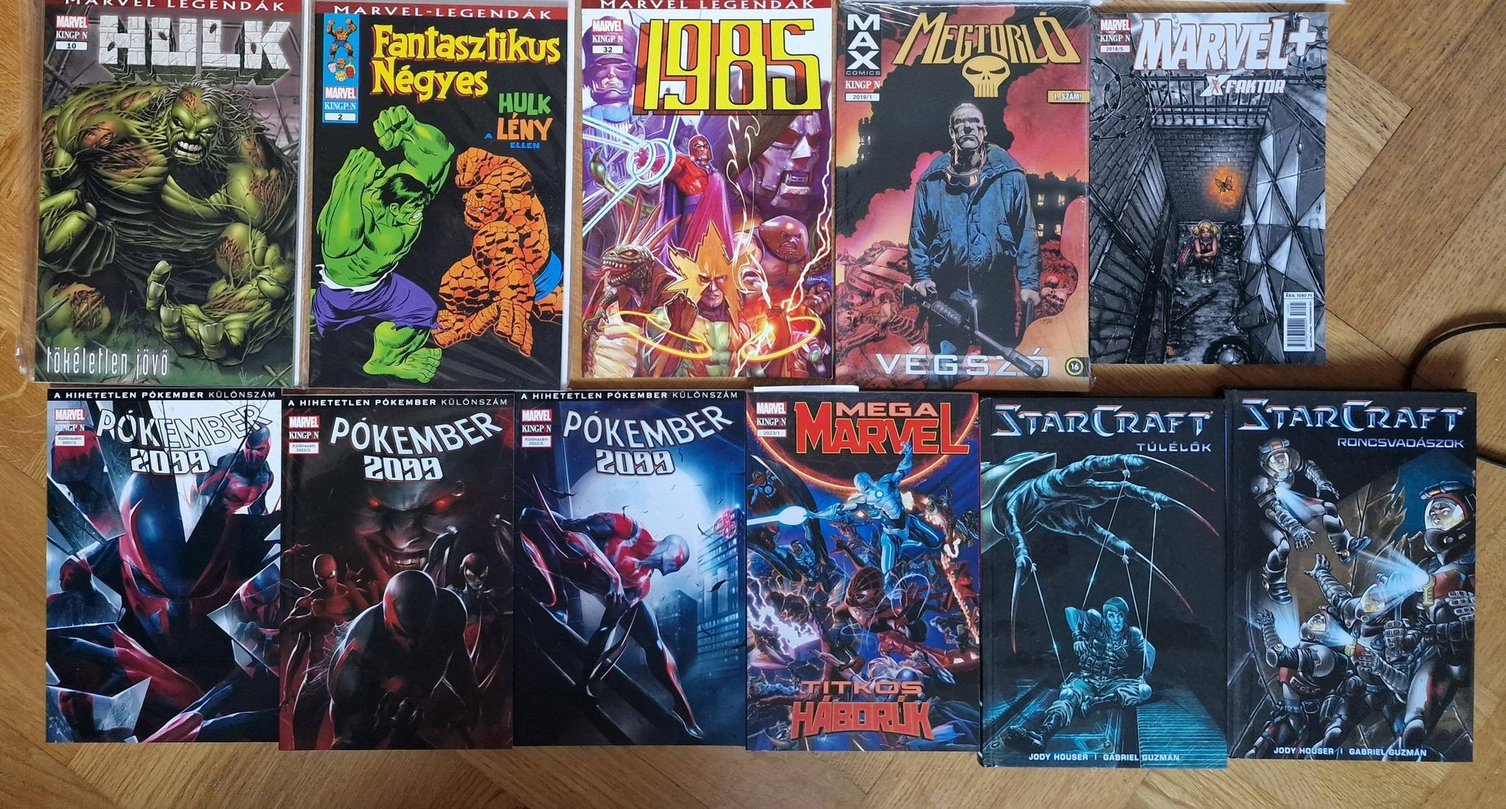comic: (33, 0, 309, 388), (306, 0, 572, 391), (833, 1, 1093, 389), (572, 0, 833, 380), (1227, 391, 1477, 761), (980, 398, 1228, 767), (744, 392, 982, 750), (279, 392, 514, 750), (1089, 11, 1327, 363), (46, 387, 282, 741), (515, 391, 745, 745)
